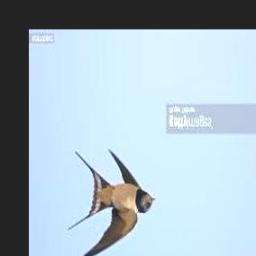Swallow: (68, 150, 155, 256)
